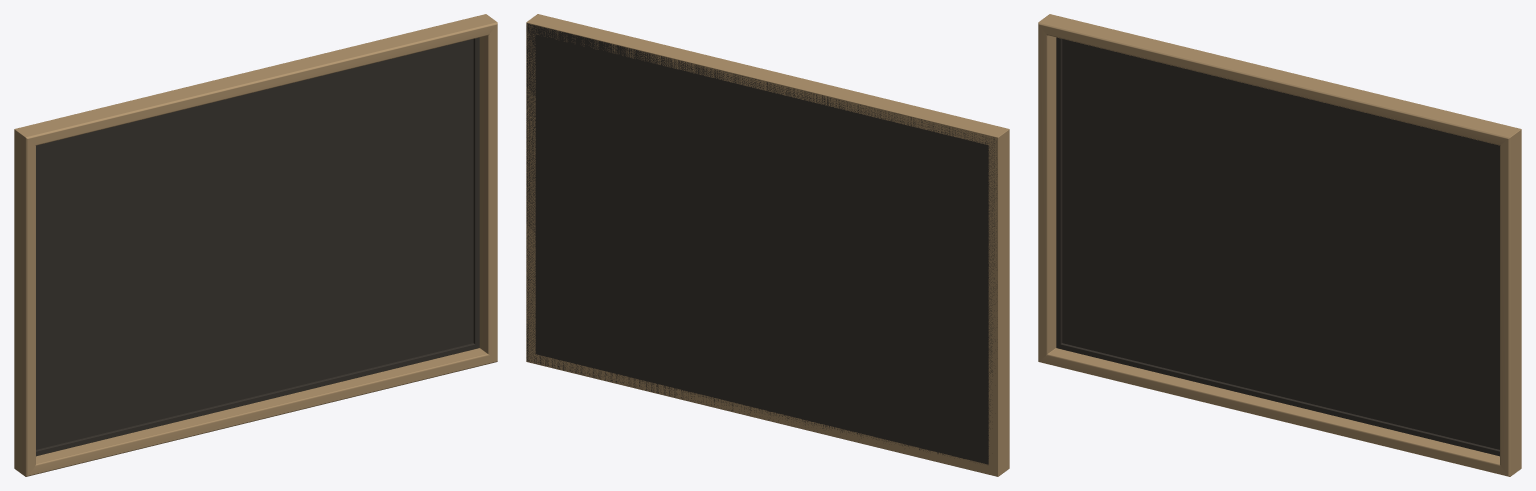
File: oak-frame-only.glb
The picture shows the model from 3 angles, left to right: view 1: azimuth 30°, elevation 25°; view 2: azimuth 150°, elevation 25°; view 3: azimuth 330°, elevation 25°; orthographic projection.
Parts seen in each view (by area): view 1: Rigid backing panel, Pale oak floating frame, Recessed shadow gap; view 2: Rigid backing panel, Pale oak floating frame; view 3: Rigid backing panel, Pale oak floating frame, Recessed shadow gap.
Part boxes in pixels (<box>): Rigid backing panel: <box>36,39,473,449</box>; Pale oak floating frame: <box>14,14,497,476</box>; Recessed shadow gap: <box>36,37,479,456</box>; Rigid backing panel: <box>526,23,997,464</box>; Pale oak floating frame: <box>526,14,1009,476</box>; Rigid backing panel: <box>1062,39,1499,449</box>; Pale oak floating frame: <box>1038,14,1521,476</box>; Recessed shadow gap: <box>1056,37,1499,456</box>.
Size of the model in its own units: 1.6 by 1.1 by 0.072.
